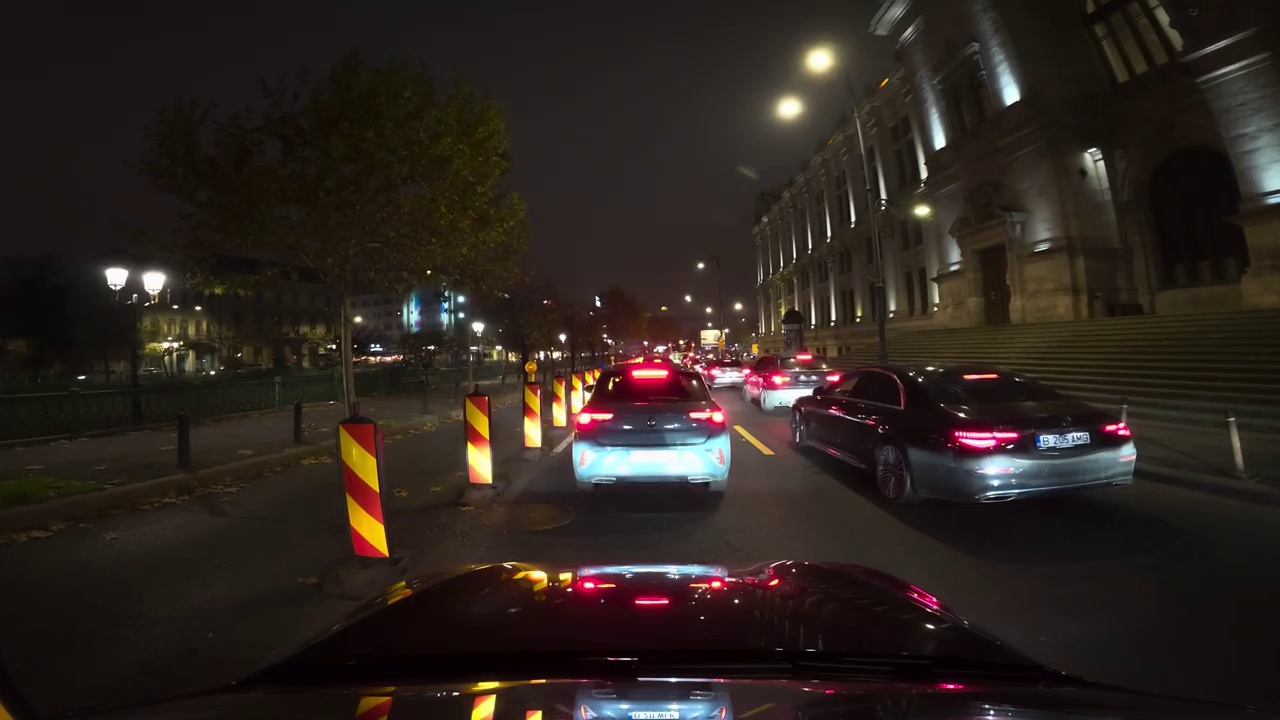acesa: (802, 45, 836, 76), (772, 95, 804, 122), (910, 201, 934, 222), (736, 162, 757, 182)
